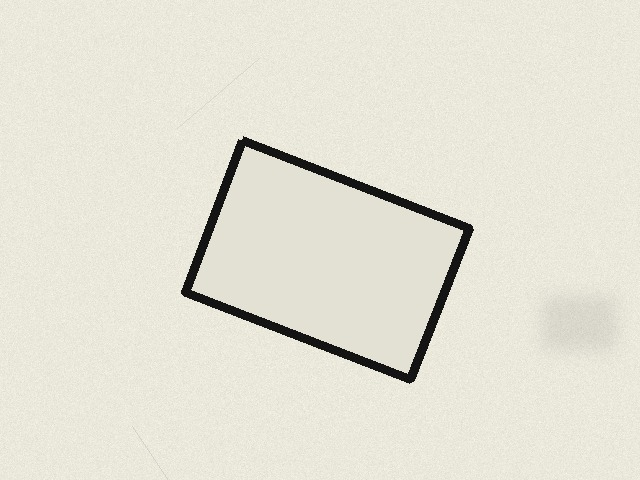parking_area: (185, 140, 469, 379)
